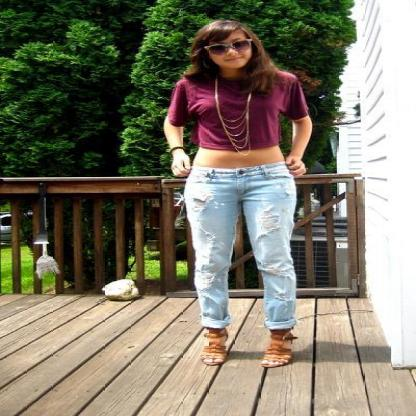pants: (181, 162, 311, 330)
shirt: (164, 75, 309, 151)
shoe: (188, 326, 298, 374)
sunglass: (217, 64, 242, 77)
